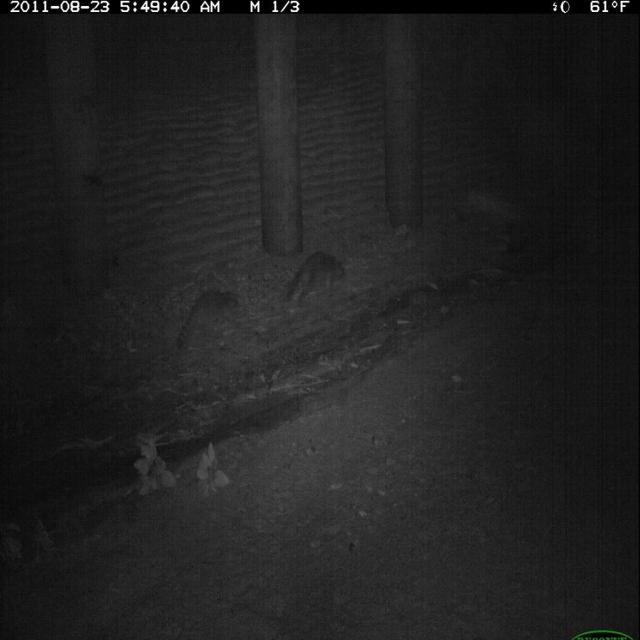raccoon: (171, 282, 244, 356), (283, 246, 351, 312)
